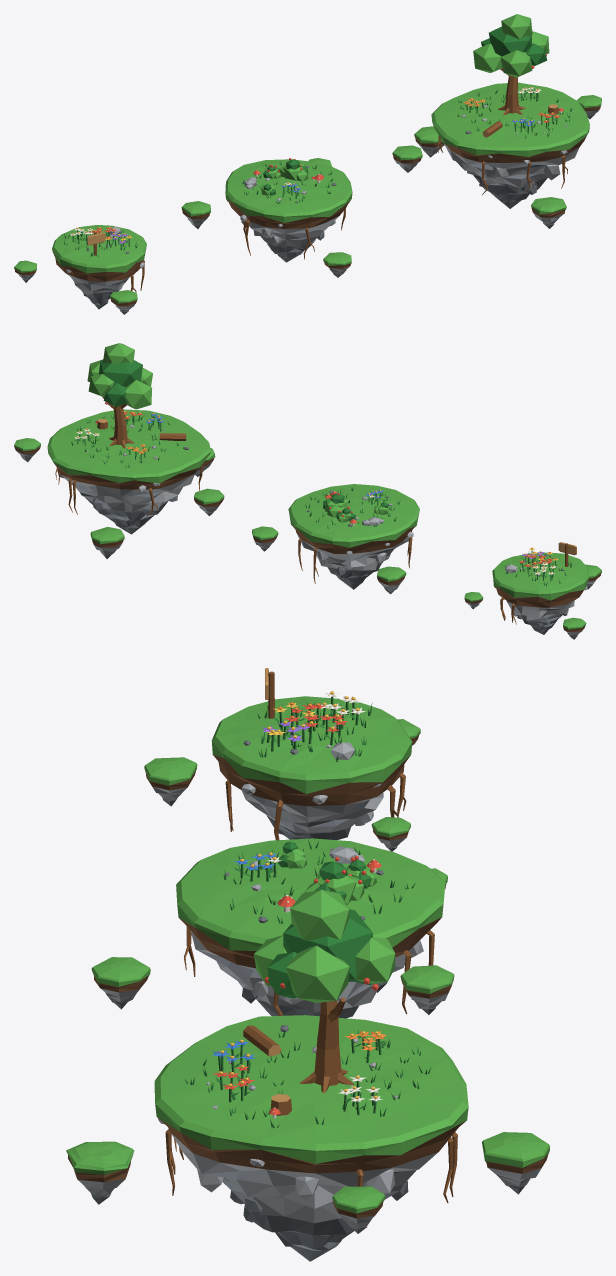
The model's file is meadow-sky-islets.glb.
3 views of the same model, one above another, from view 1: azimuth 30°, elevation 25°; view 2: azimuth 150°, elevation 25°; view 3: azimuth 270°, elevation 25° (orthographic). The views are drawn at different scales.
Parts seen in each view (by area): view 1: MeadowIslet_Tree, MeadowIslet_Bush, MeadowIslet_Flowers, MeadowIslet_Tree_TreeCanopy, MeadowIslet_Bush_Bushes, MeadowIslet_Tree_Flowers, MeadowIslet_Tree_SideStones, MeadowIslet_Tree_TreeTrunk, MeadowIslet_Flowers_Flowers; view 2: MeadowIslet_Tree, MeadowIslet_Bush, MeadowIslet_Flowers, MeadowIslet_Tree_TreeCanopy, MeadowIslet_Bush_Bushes, MeadowIslet_Tree_Flowers, MeadowIslet_Flowers_Flowers, MeadowIslet_Tree_TreeTrunk; view 3: MeadowIslet_Tree, MeadowIslet_Bush, MeadowIslet_Flowers, MeadowIslet_Tree_TreeCanopy, MeadowIslet_Bush_Bushes, MeadowIslet_Flowers_Flowers, MeadowIslet_Tree_Flowers, MeadowIslet_Tree_TreeTrunk, MeadowIslet_Tree_SideStones, MeadowIslet_Tree_Roots, MeadowIslet_Tree_LogAndStump, MeadowIslet_Tree_GrassTufts (+2 smaller).
Boxes of the visible parts, x1=… form: MeadowIslet_Tree: x1=392, y1=82, x2=601, y2=228; MeadowIslet_Bush: x1=181, y1=158, x2=352, y2=277; MeadowIslet_Flowers: x1=14, y1=225, x2=146, y2=314; MeadowIslet_Tree_TreeCanopy: x1=473, y1=14, x2=549, y2=77; MeadowIslet_Bush_Bushes: x1=261, y1=158, x2=308, y2=195; MeadowIslet_Tree_Flowers: x1=463, y1=86, x2=560, y2=133; MeadowIslet_Tree_SideStones: x1=479, y1=150, x2=567, y2=194; MeadowIslet_Tree_TreeTrunk: x1=497, y1=68, x2=525, y2=115; MeadowIslet_Flowers_Flowers: x1=70, y1=226, x2=132, y2=249; MeadowIslet_Tree: x1=14, y1=409, x2=224, y2=558; MeadowIslet_Bush: x1=252, y1=484, x2=419, y2=594; MeadowIslet_Flowers: x1=464, y1=552, x2=601, y2=639; MeadowIslet_Tree_TreeCanopy: x1=87, y1=343, x2=152, y2=409; MeadowIslet_Bush_Bushes: x1=323, y1=493, x2=389, y2=522; MeadowIslet_Tree_Flowers: x1=74, y1=411, x2=163, y2=459; MeadowIslet_Flowers_Flowers: x1=519, y1=547, x2=558, y2=581; MeadowIslet_Tree_TreeTrunk: x1=102, y1=396, x2=134, y2=448; MeadowIslet_Tree: x1=66, y1=1015, x2=549, y2=1261; MeadowIslet_Bush: x1=91, y1=838, x2=454, y2=1018; MeadowIslet_Flowers: x1=144, y1=696, x2=420, y2=851; MeadowIslet_Tree_TreeCanopy: x1=254, y1=889, x2=395, y2=1002; MeadowIslet_Bush_Bushes: x1=278, y1=841, x2=376, y2=904; MeadowIslet_Flowers_Flowers: x1=262, y1=691, x2=366, y2=751; MeadowIslet_Tree_Flowers: x1=212, y1=1031, x2=386, y2=1115; MeadowIslet_Tree_TreeTrunk: x1=299, y1=998, x2=354, y2=1092; MeadowIslet_Tree_SideStones: x1=158, y1=1119, x2=408, y2=1222; MeadowIslet_Tree_Roots: x1=165, y1=1129, x2=457, y2=1227; MeadowIslet_Tree_LogAndStump: x1=243, y1=1025, x2=291, y2=1118; MeadowIslet_Tree_GrassTufts: x1=185, y1=1029, x2=430, y2=1128.
Size of the model in its own units: 85.6 by 27.08 by 31.14.
